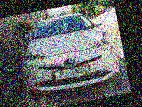car: (13, 7, 122, 97)
